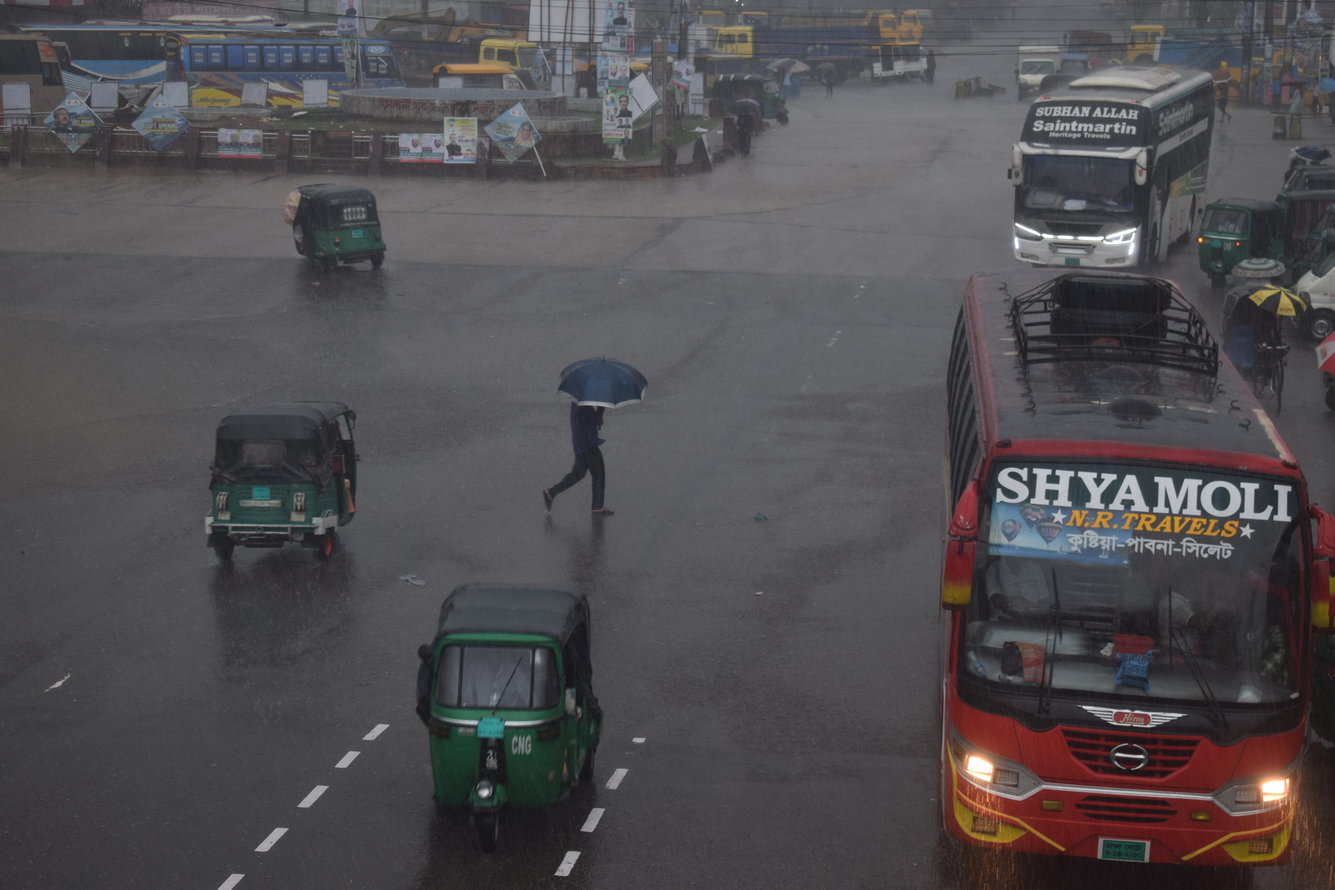Bus: (878, 239, 1335, 890), (957, 44, 1225, 295), (167, 7, 427, 158), (0, 0, 185, 181)
Car: (1213, 264, 1310, 419), (997, 22, 1072, 108)
Truck: (694, 4, 889, 96), (405, 36, 538, 122)
